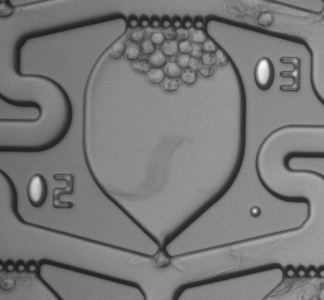AptNum: (247, 52, 309, 97)
Marker: (241, 197, 271, 224)
StNum: (21, 166, 83, 216)
Trap: (140, 247, 184, 292)
